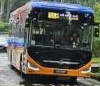bus: (47, 10, 57, 19)
